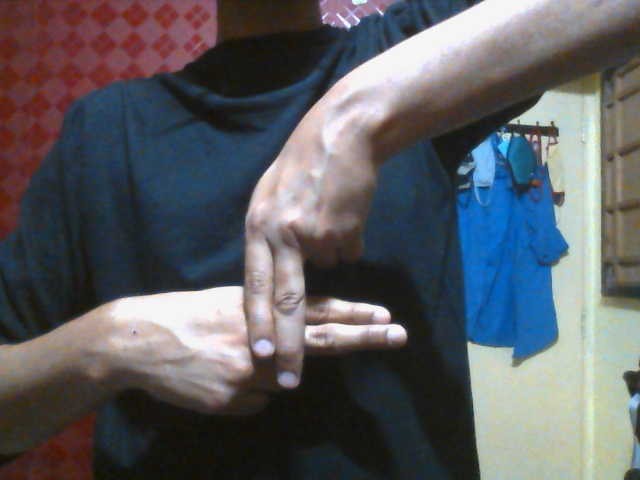F: (122, 125, 410, 420)
